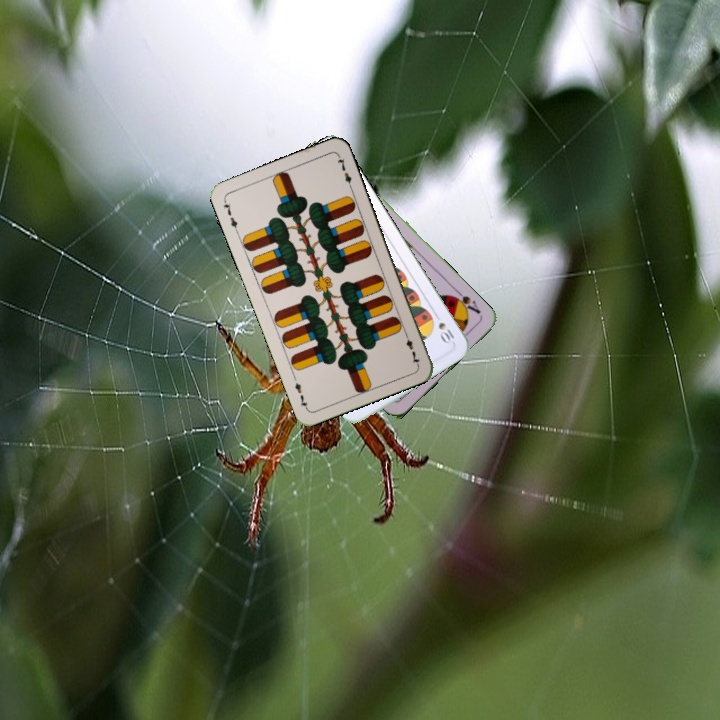E7: (400, 328, 422, 367), (219, 196, 241, 235)
S10: (430, 309, 458, 346)
SA: (447, 286, 483, 317)
